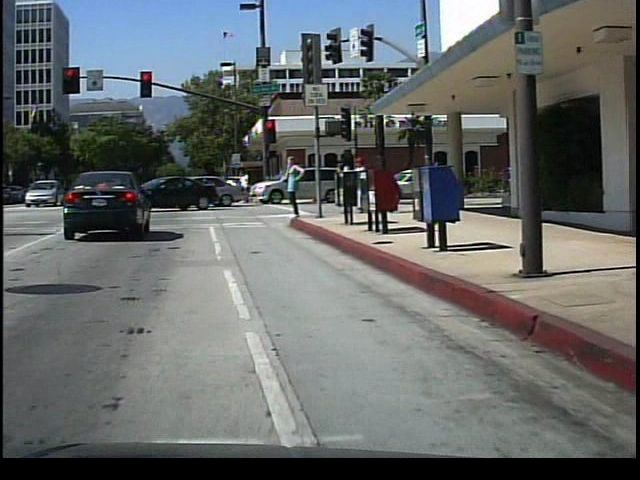person: (282, 151, 310, 220), (353, 152, 373, 215), (336, 153, 357, 213)
